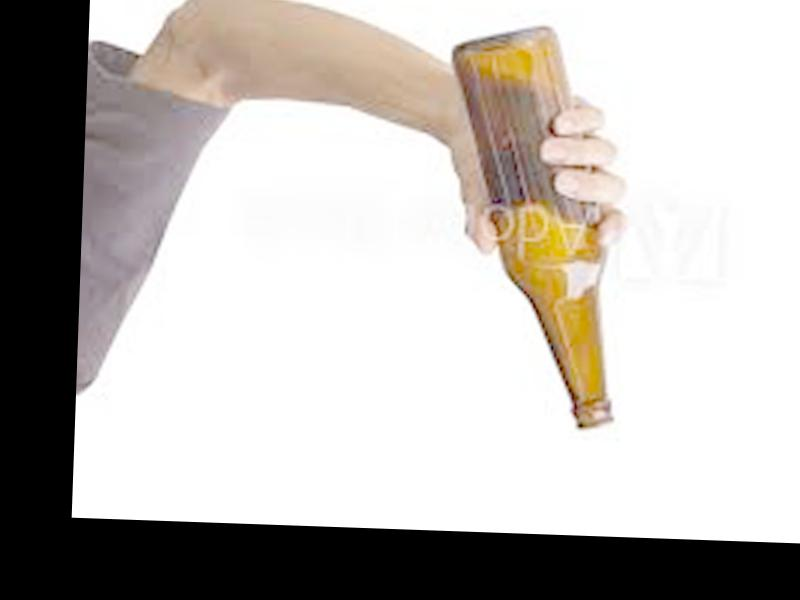Beer: (437, 22, 630, 431)
